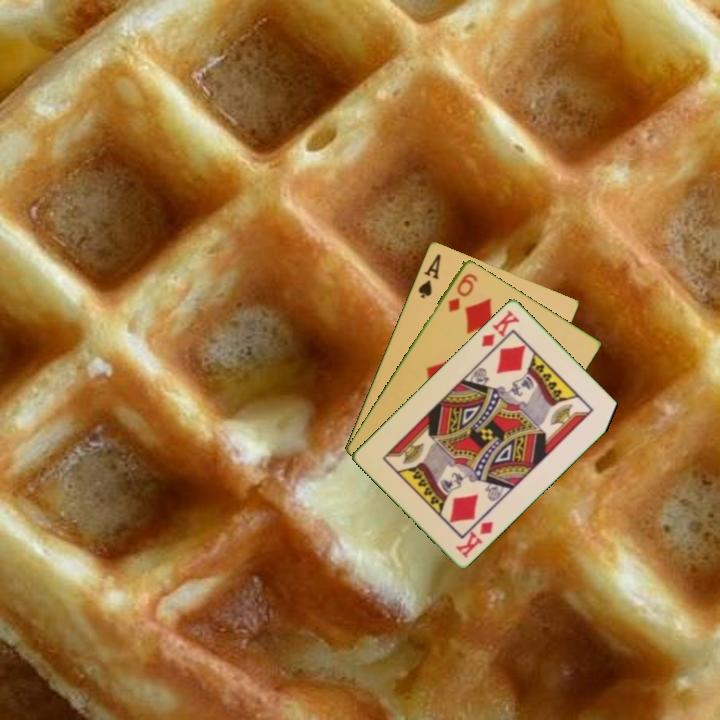6d: (444, 269, 480, 315)
As: (414, 250, 444, 301)
Kd: (477, 306, 522, 350), (452, 517, 496, 561)
